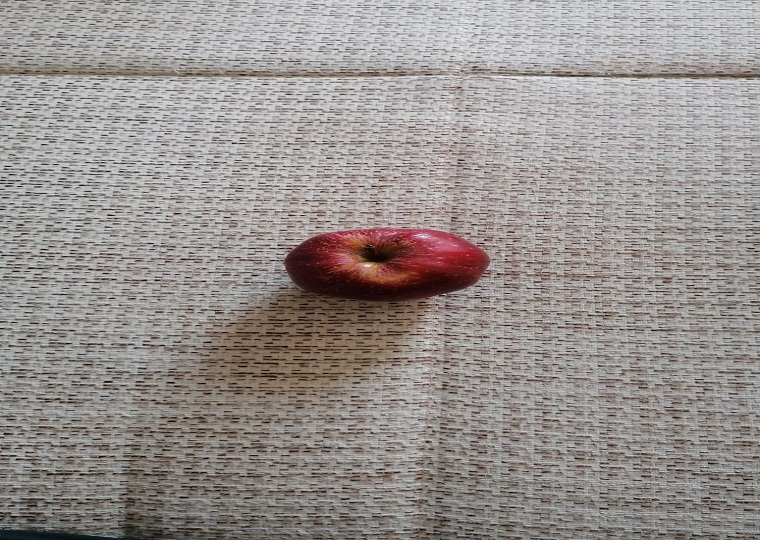elma: (283, 227, 492, 303)
